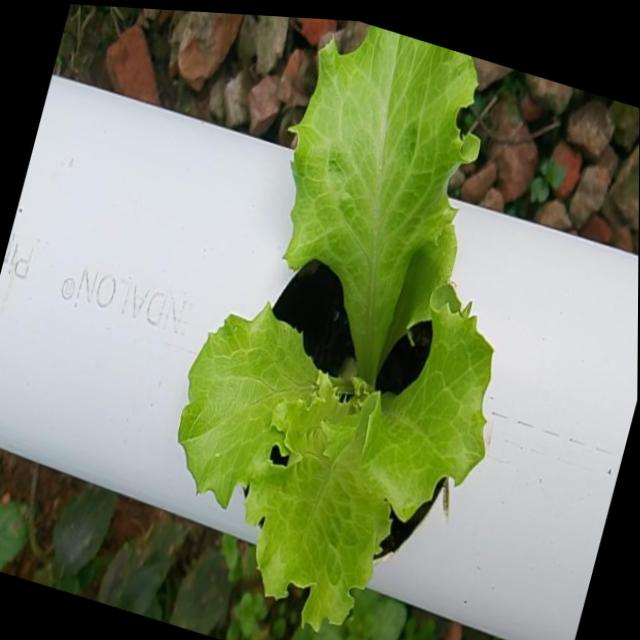Baby: (176, 23, 485, 629)
